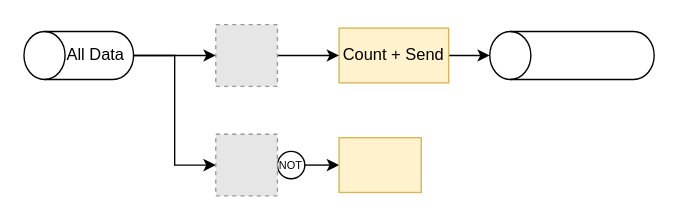
Image size: 678x219. Some labels were removed from this diagram. Grey dashed boxes stand in for pictures. The centre of each missing label's shape, as x and y in pixels:
Count: [379,164]
Required Data: [571,54]
